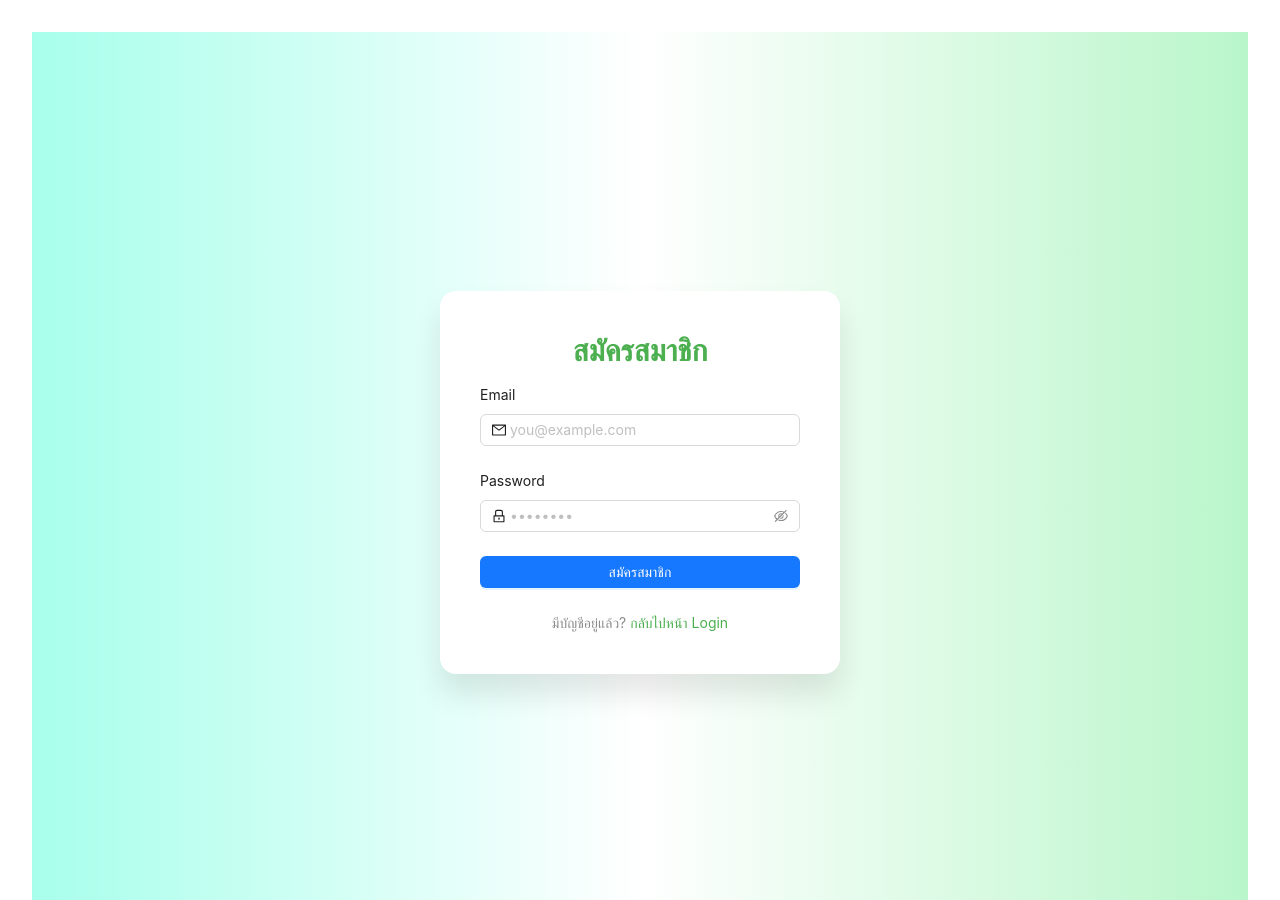
Scenario: Register Component › shows validation errors on empty submit
Click the button "สมัครสมาชิก" at x=640, y=572, box [480, 556, 800, 588]
(page scrolled)
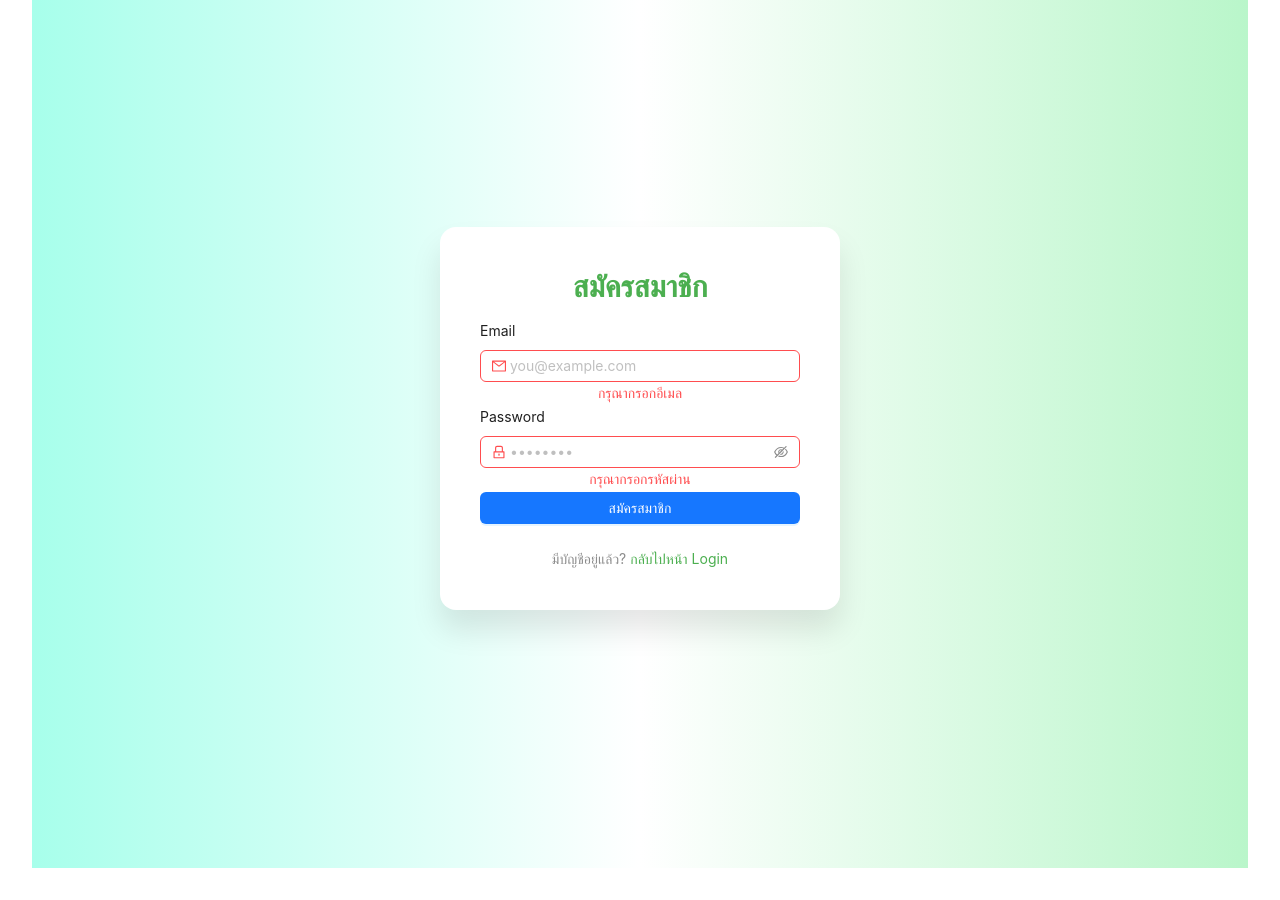
Check: the text "กรุณากรอกอีเมล" is shown, box [598, 384, 682, 400]
Check: the text "กรุณากรอกรหัสผ่าน" is shown, box [589, 470, 691, 486]
